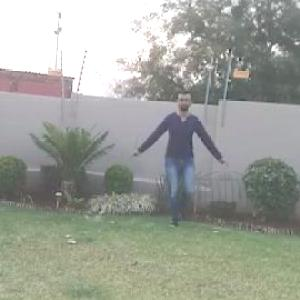land: (129, 93, 231, 229)
